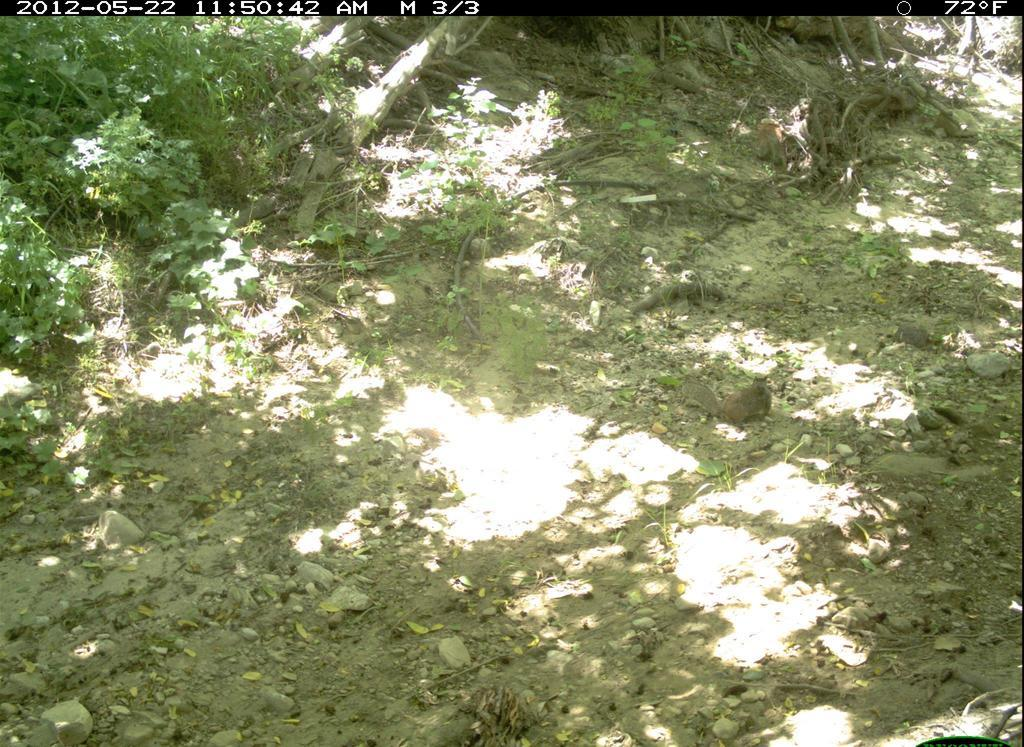squirrel: (669, 356, 790, 443)
